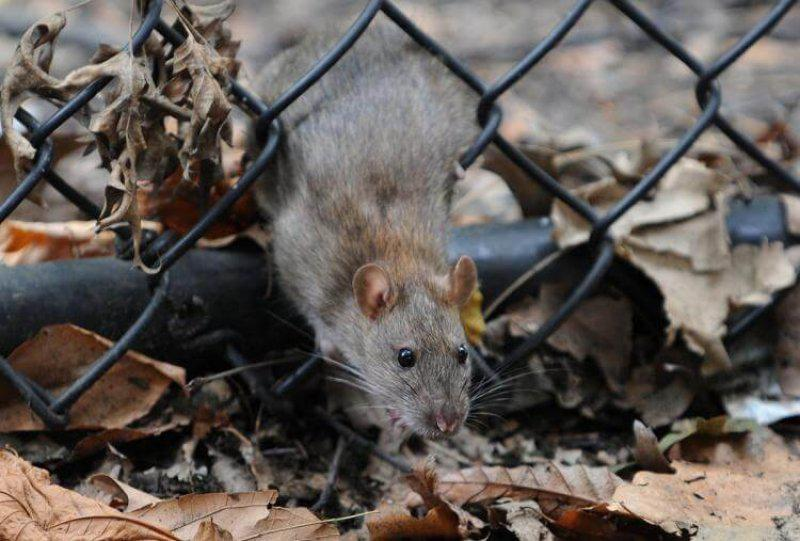rat: (248, 26, 470, 436)
